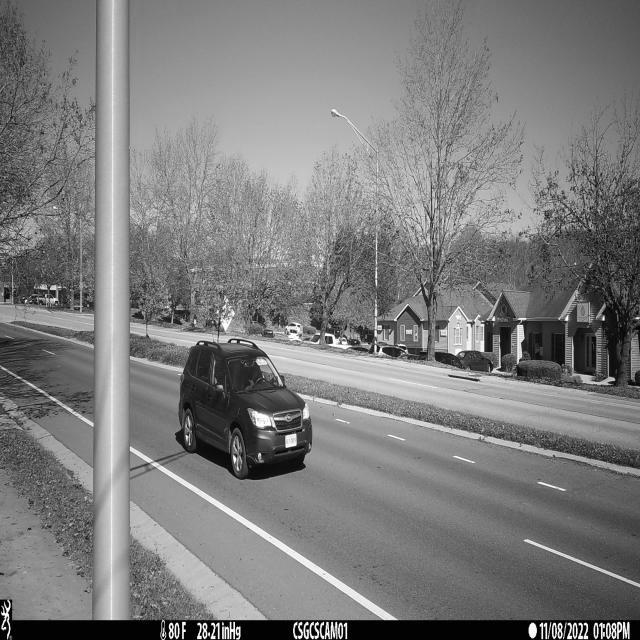SUV: (177, 339, 312, 480)
